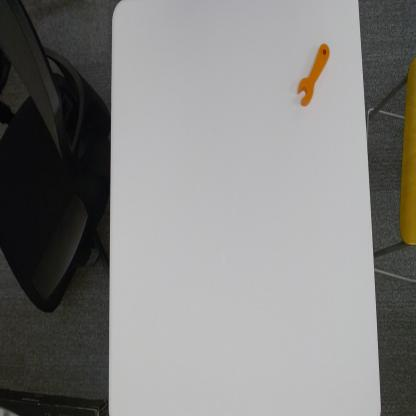Screwdriver: (296, 38, 330, 108)
